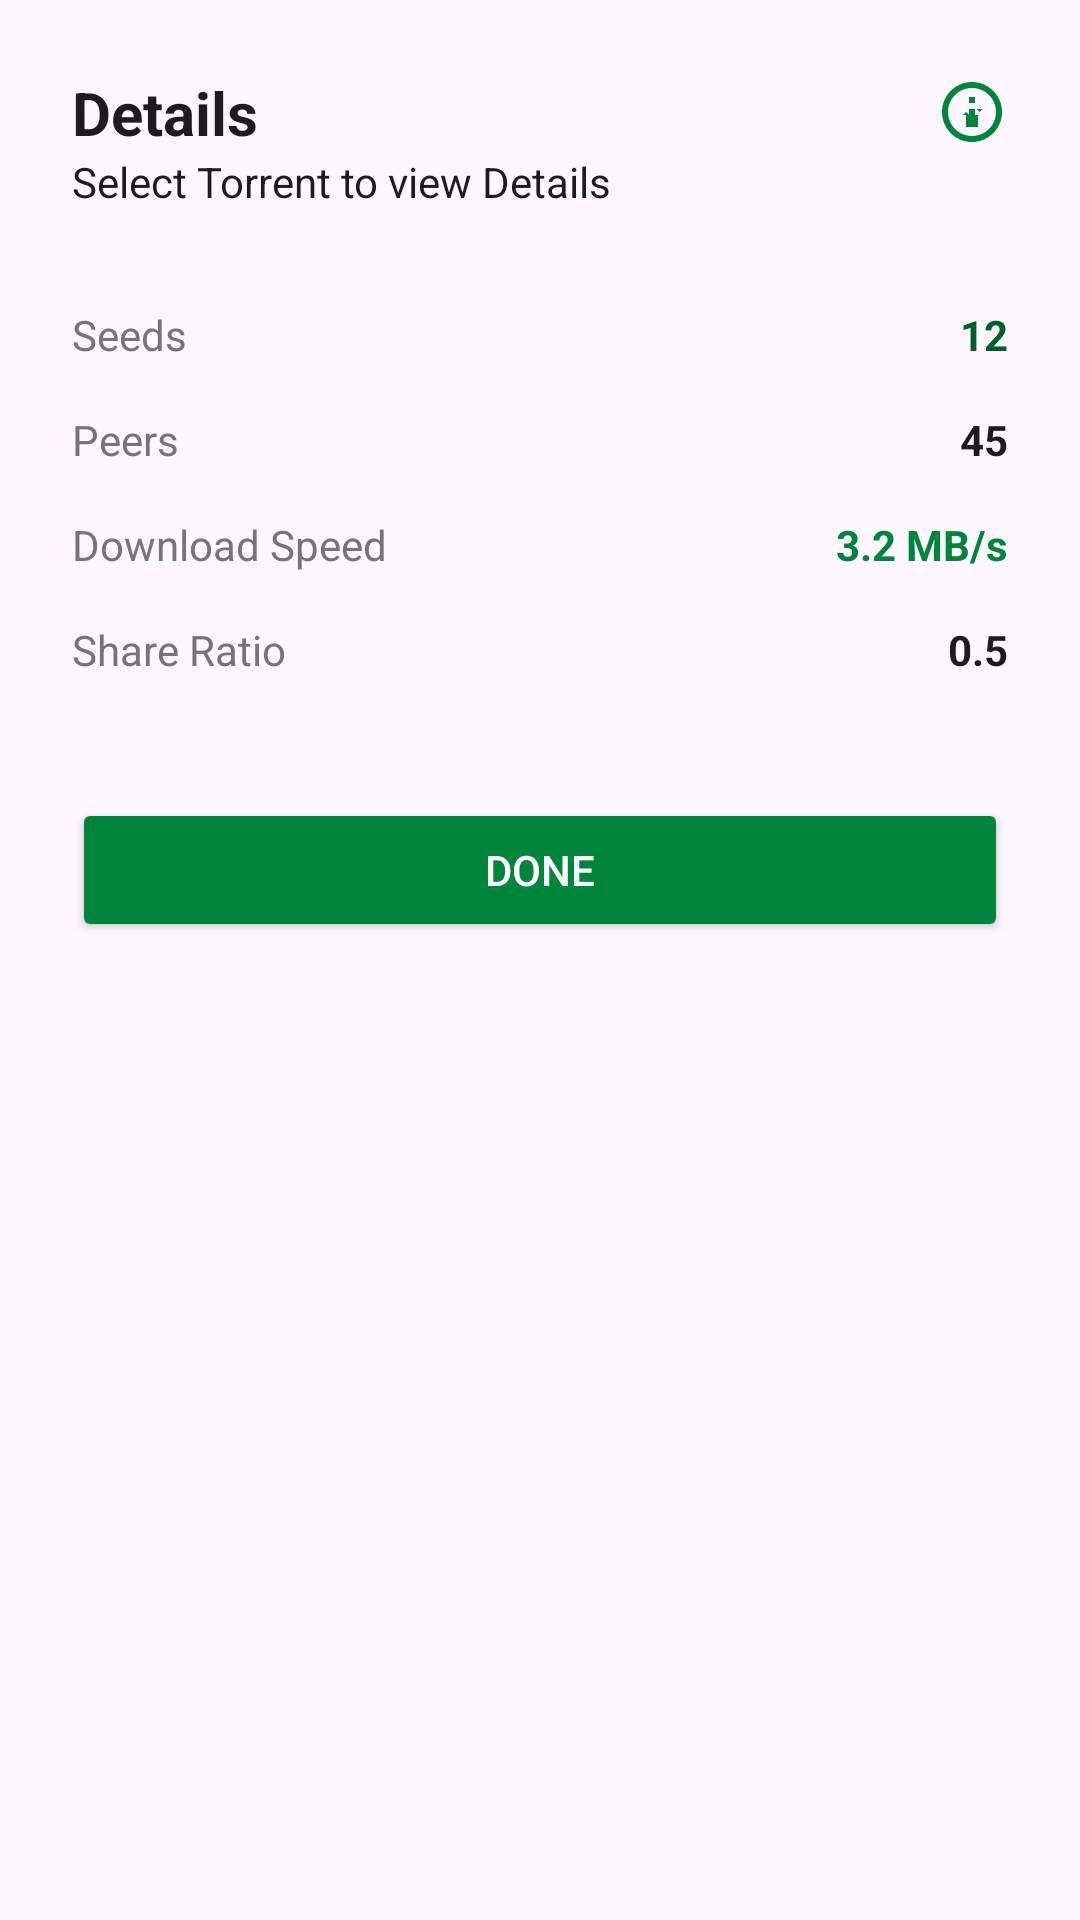

Point at icon controls on the screen. Image size 1080px x 1920px, points as [x,y].
info: [972,112]
